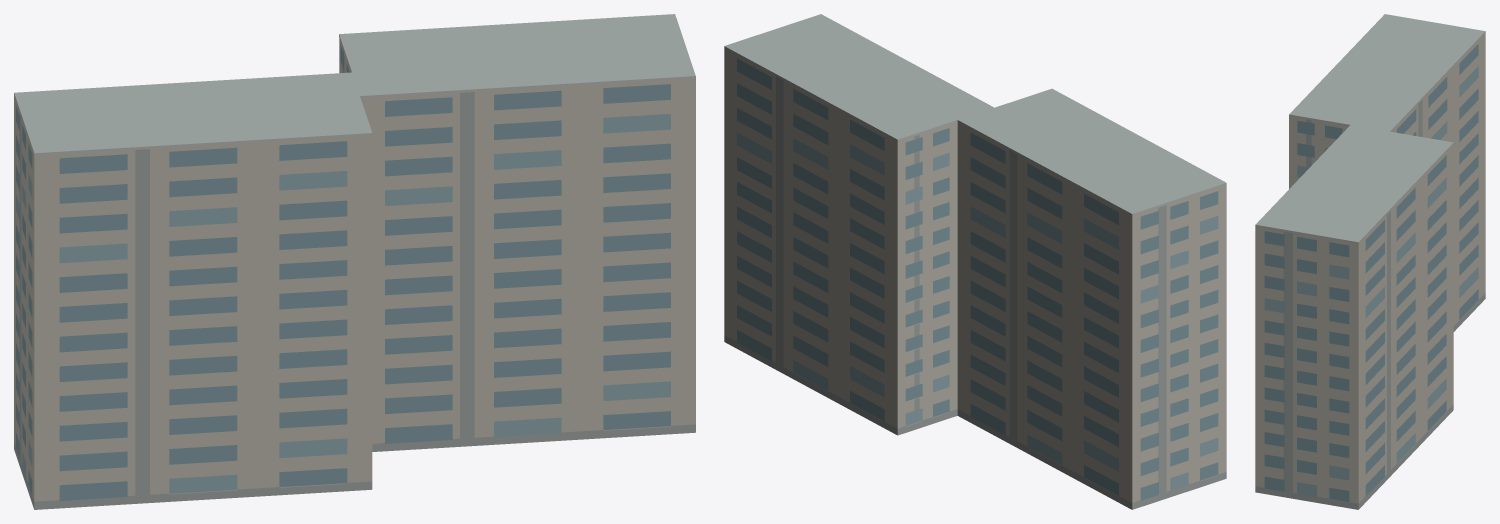
File: residential-3f5fa1fb-bae9-4999-828d-9cc9fee980ca.glb
The picture shows the model from 3 angles, left to right: view 1: azimuth 30°, elevation 25°; view 2: azimuth 150°, elevation 25°; view 3: azimuth 270°, elevation 25°; orthographic projection. The views are drawn at different scales.
Visible parts, largest first — view 1: residential-3f5fa1fb-bae9-4999-828d-9cc9fee980ca.tmp; view 2: residential-3f5fa1fb-bae9-4999-828d-9cc9fee980ca.tmp; view 3: residential-3f5fa1fb-bae9-4999-828d-9cc9fee980ca.tmp.
Part boxes in pixels (bbox=[...]): residential-3f5fa1fb-bae9-4999-828d-9cc9fee980ca.tmp: bbox=[14, 14, 695, 509]; residential-3f5fa1fb-bae9-4999-828d-9cc9fee980ca.tmp: bbox=[724, 14, 1226, 509]; residential-3f5fa1fb-bae9-4999-828d-9cc9fee980ca.tmp: bbox=[1255, 14, 1485, 509].
Size of the model in its own units: 58.52 by 32 by 24.95.
